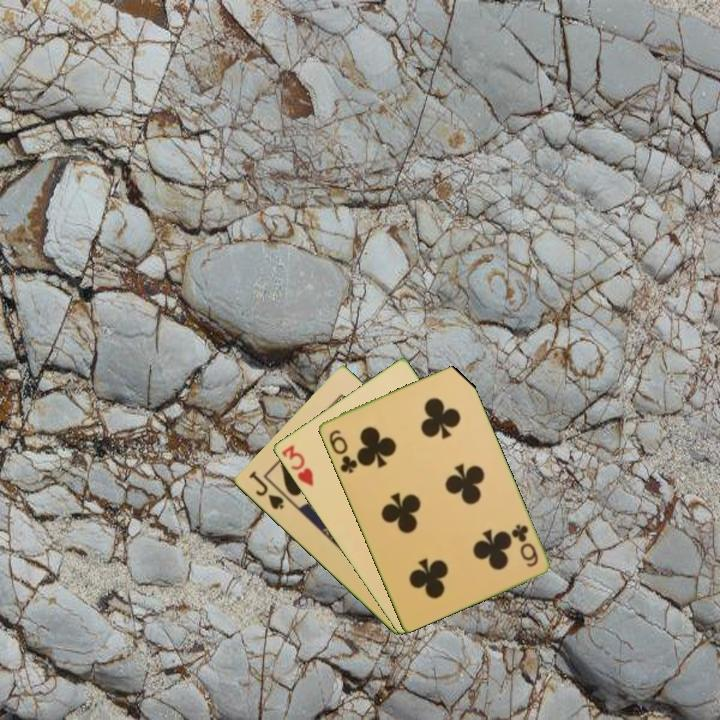3h: (278, 441, 316, 489)
6c: (325, 426, 360, 476), (508, 521, 541, 570)
Js: (245, 467, 286, 513)
